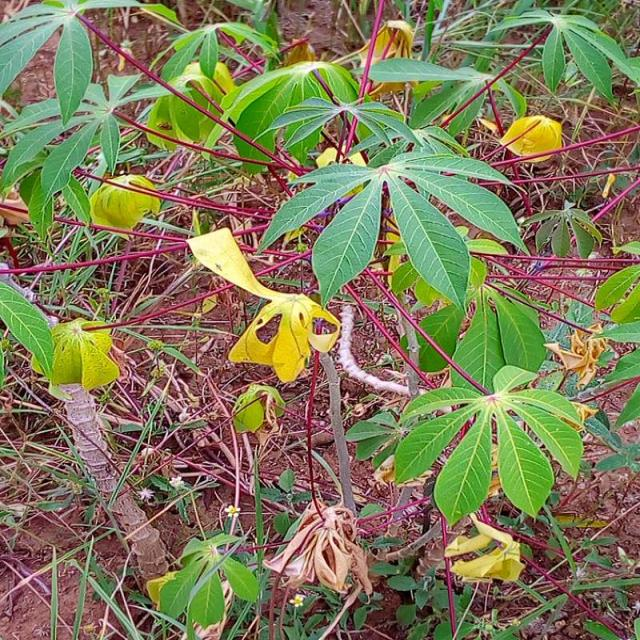cassava leaf: (392, 281, 584, 526), (385, 168, 470, 314), (310, 171, 382, 308), (47, 317, 119, 399)
